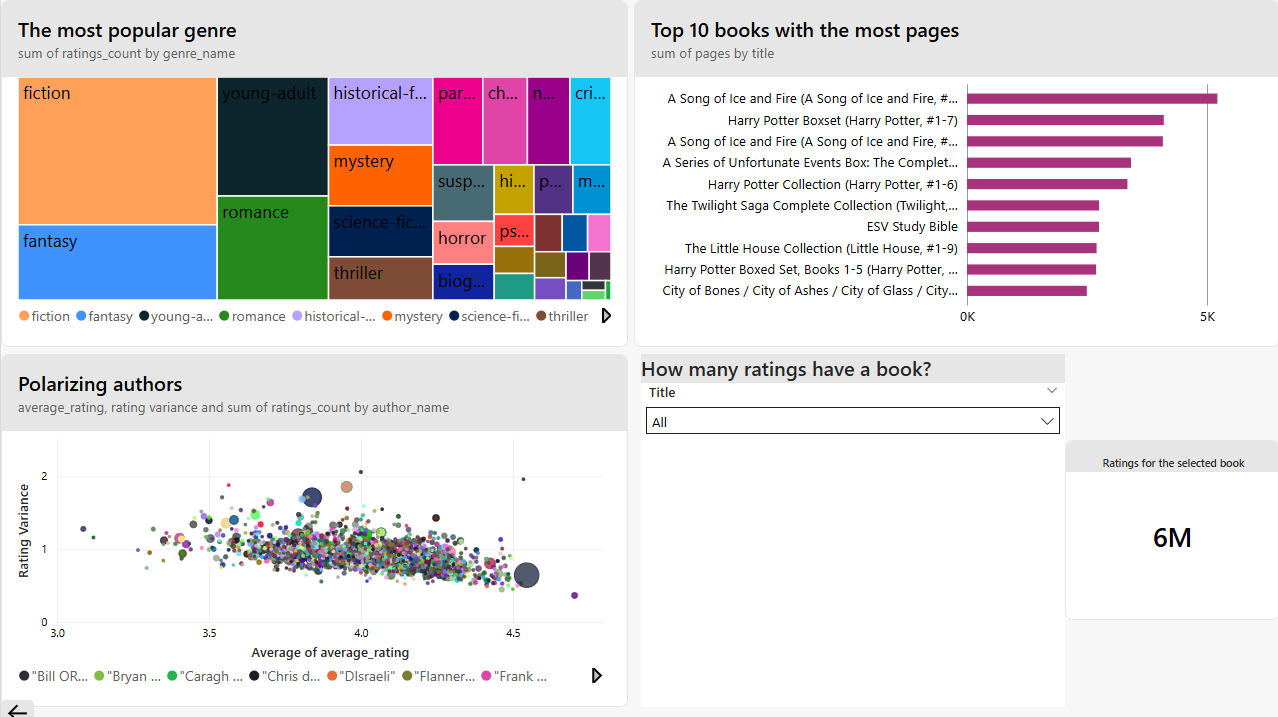

The page's visual inventory and layout, read from the dashboard file:
{"tool":"powerbi","page":{"name":"Details","canvas":[1280,720],"ordinal":1},"visuals":[{"type":"treemap","title":"The most popular genre","fields":{"Group":["dim_genres.genre_name"],"Values":["dim_books.Genre Ratings Volume"]},"box":[0,0,626.6,347.4],"z":4001},{"type":"barChart","title":"Top 10 books with the most pages","fields":{"Category":["dim_books.title"],"Y":["Sum(dim_books.pages)"]},"box":[632.9,0,646.4,347.4],"z":4002},{"type":"scatterChart","title":"Polarizing authors","fields":{"Series":["dim_authors.author_name"],"Size":["Sum(dim_books.ratings_count)"],"X":["Avg(dim_books.average_rating)"],"Y":["dim_books.Rating Variance"]},"box":[0,353.7,626.6,353.7],"z":4003},{"type":"slicer","title":"How many ratings have a book?","fields":{"Values":["dim_books.title"]},"box":[640.1,353.7,423.7,353.7],"z":4004},{"type":"card","title":"Ratings for the selected book","fields":{"Values":["fact_ratings.dax Ratings Given Count"]},"box":[1063.8,439.9,215.5,180.4],"z":4005},{"type":"actionButton","box":[0,700.2,33.2,19.8],"z":4006}]}

Visuals, with their boxes in screenshot pixels (x1, y1, x2, y2), scaled from the page's 1280x720 canvas onto the 1278x717 screenshot:
"The most popular genre" treemap: 0/0/626/346
"Top 10 books with the most pages" barChart: 632/0/1277/346
"Polarizing authors" scatterChart: 0/352/626/704
"How many ratings have a book?" slicer: 639/352/1062/704
"Ratings for the selected book" card: 1062/438/1277/618
actionButton: 0/697/33/716
